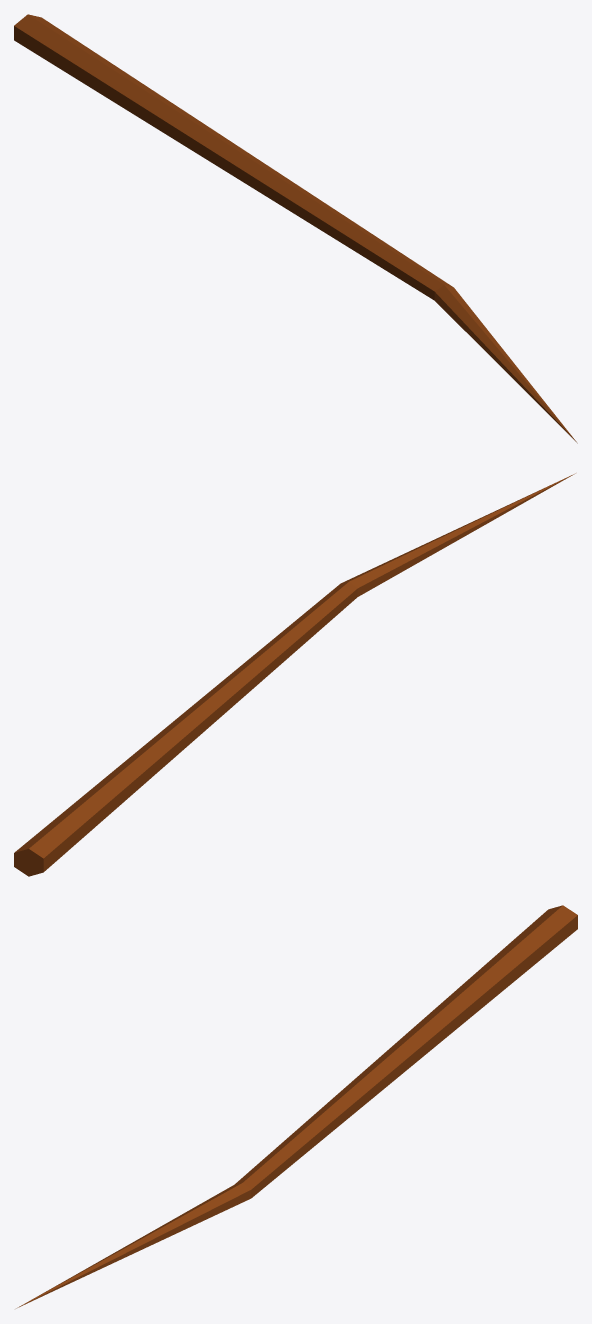
File: Vegetation_Tree_Roots_Vines_Snaking_06.FBX
3 renders of one model, top to bottom at view 1: azimuth 30°, elevation 25°; view 2: azimuth 150°, elevation 25°; view 3: azimuth 330°, elevation 25°, orthographic. The views are drawn at different scales.
Parts seen in each view (by area): view 1: Vegetation_Tree_Roots_Vines_Snaking_06; view 2: Vegetation_Tree_Roots_Vines_Snaking_06; view 3: Vegetation_Tree_Roots_Vines_Snaking_06.
Boxes of the visible parts, x1,y1,x2,y2 form: Vegetation_Tree_Roots_Vines_Snaking_06: (14,14,577,443); Vegetation_Tree_Roots_Vines_Snaking_06: (14,473,575,876); Vegetation_Tree_Roots_Vines_Snaking_06: (16,905,577,1308).
Bounding box in the file's own units: 410 × 177 × 6181.
